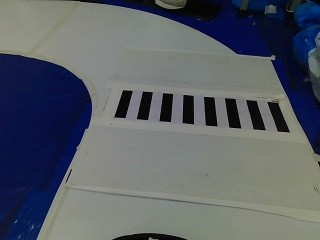crosswalk: (99, 80, 294, 136)
